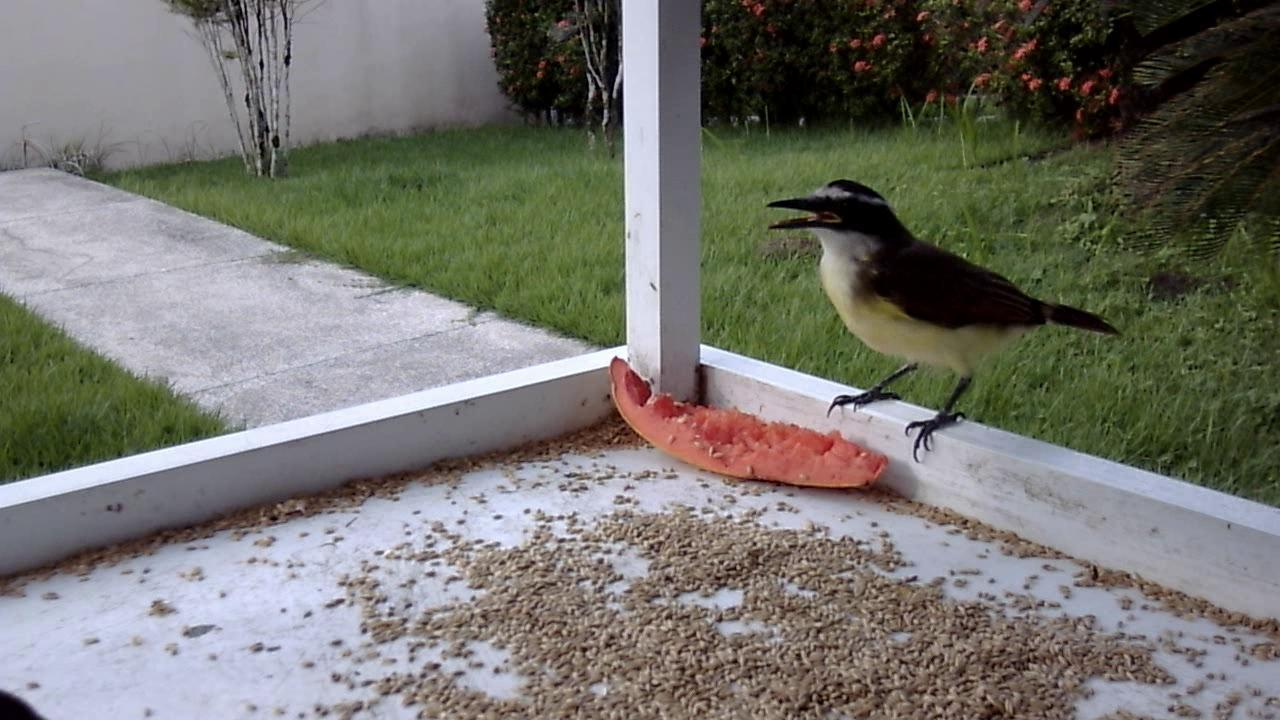bem_te_vi: (754, 168, 1127, 477)
